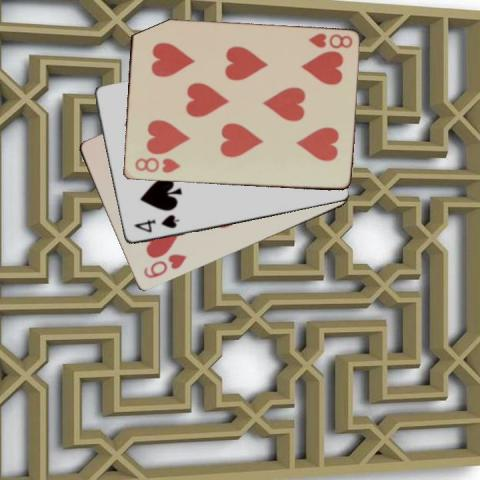4s: (131, 212, 180, 235)
6h: (140, 251, 188, 280)
8h: (132, 154, 182, 174), (305, 31, 353, 50)
